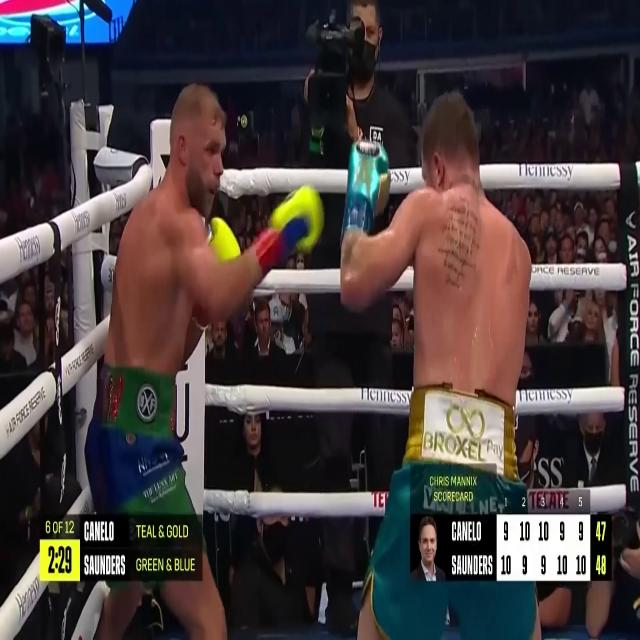boxer_1: (105, 85, 226, 375)
boxer_2: (414, 93, 531, 407)
gloves_1: (253, 185, 325, 267), (209, 217, 241, 264)
gloves_2: (344, 140, 390, 233)
